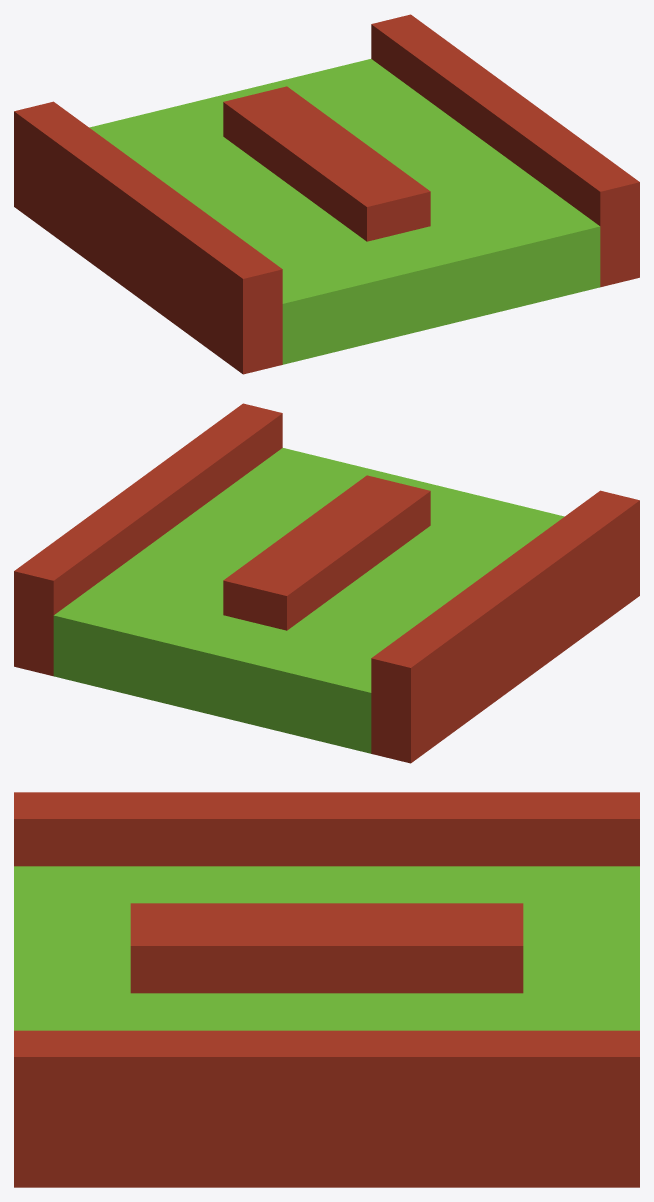
Rendered from Obstacle_01.FBX.
The picture shows the model from 3 angles, top to bottom: view 1: azimuth 30°, elevation 25°; view 2: azimuth 150°, elevation 25°; view 3: azimuth 270°, elevation 25°; orthographic projection. The views are drawn at different scales.
Parts seen in each view (by area): view 1: Walls, Obstacle_block_01; view 2: Walls, Obstacle_block_01; view 3: Walls, Obstacle_block_01.
Boxes of the visible parts, x1,y1,x2,y2 form: Walls: [14, 14, 639, 374]; Obstacle_block_01: [89, 59, 600, 364]; Walls: [14, 403, 639, 763]; Obstacle_block_01: [53, 448, 564, 753]; Walls: [14, 792, 639, 1187]; Obstacle_block_01: [14, 866, 639, 1030].
Size of the model in its own units: 0.9999 by 0.9999 by 0.23.
